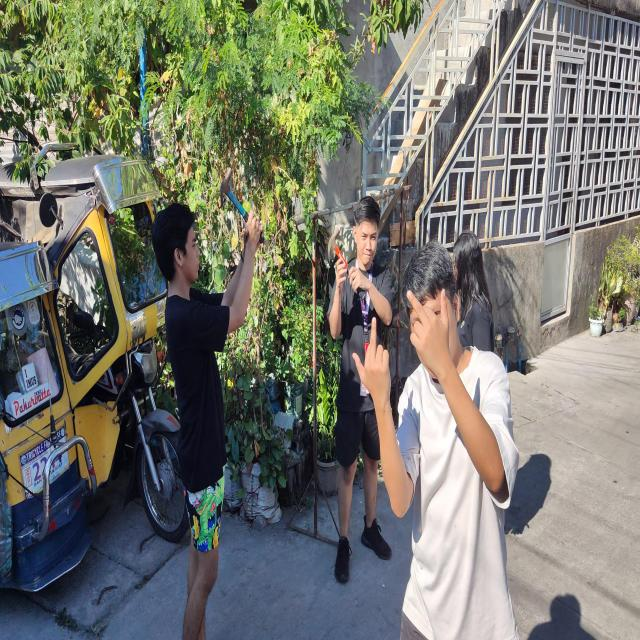hammer: (220, 167, 264, 243), (328, 227, 366, 300)
